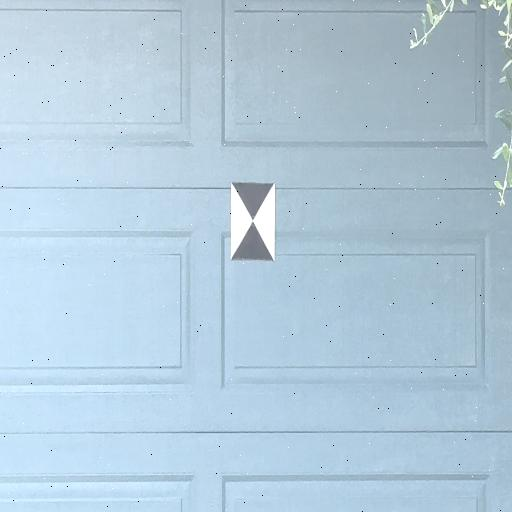target: (230, 181, 274, 261)
